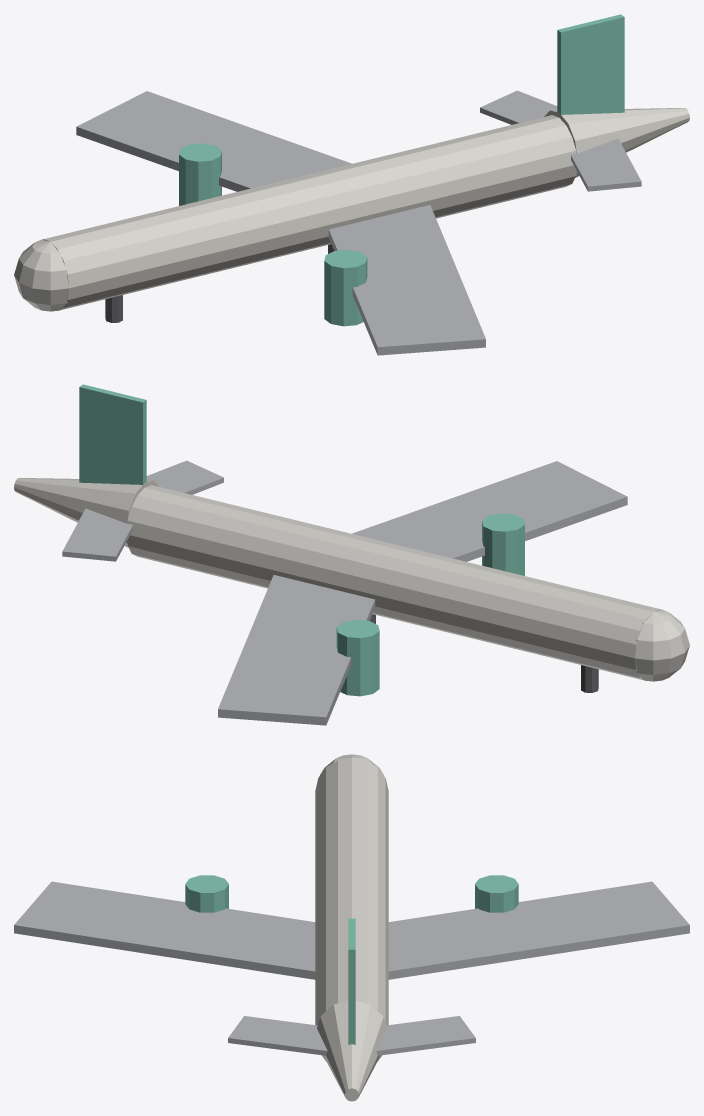
The model's file is landmark-euroairport-flugzeug-3.40476dfcb1.glb.
3 views of the same model, one above another, from view 1: azimuth 30°, elevation 25°; view 2: azimuth 150°, elevation 25°; view 3: azimuth 270°, elevation 25° (orthographic).
Visible parts, largest first — view 1: building; view 2: building; view 3: building.
Boxes of the visible parts, left/top/right/bottom form: building: left=14, top=14, right=689, bottom=355; building: left=14, top=384, right=689, bottom=725; building: left=14, top=754, right=689, bottom=1101.
Bounding box in the file's own units: 42 × 10.8 × 36.97.
